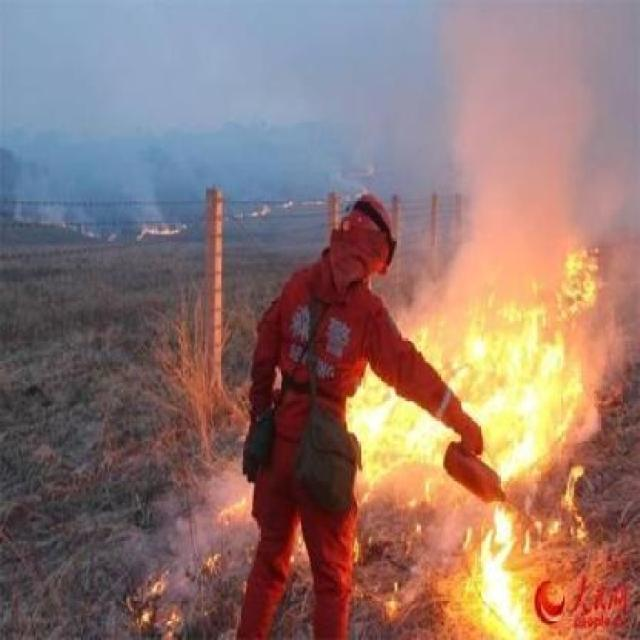Fire: (444, 247, 616, 474), (349, 356, 452, 501), (458, 506, 526, 640), (545, 481, 592, 547)
